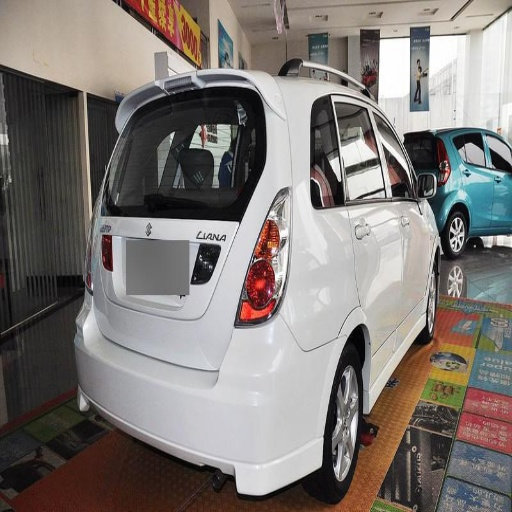back_bumper: (75, 294, 342, 498)
back_glass: (104, 102, 258, 219)
back_left_door: (410, 212, 429, 310)
back_right_door: (315, 92, 383, 206), (354, 217, 390, 349), (465, 136, 493, 217)
tailgate: (103, 214, 245, 368)
trunk: (99, 264, 167, 357), (114, 218, 210, 272)
